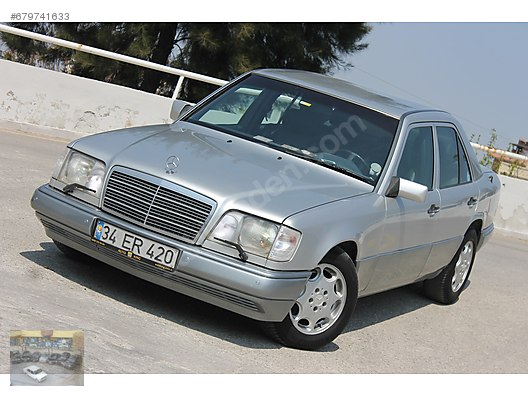mercedes: (23, 73, 504, 343)
